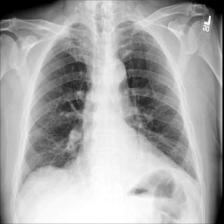normal: (13, 18, 205, 187)
